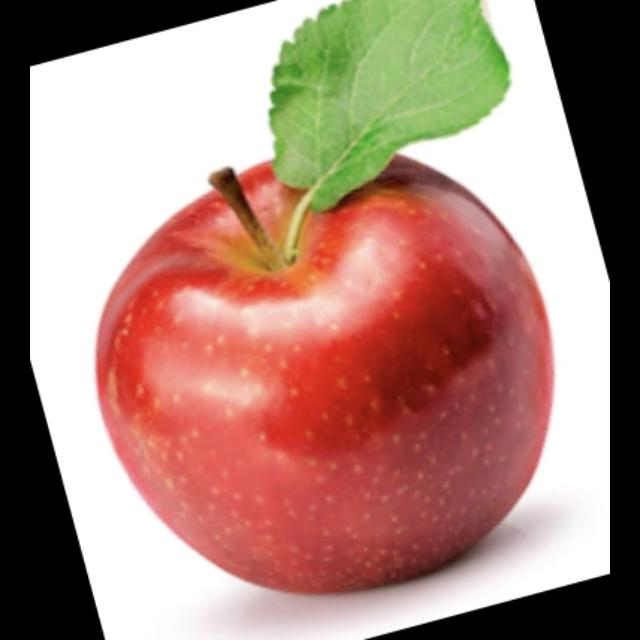Apel Segar: (102, 151, 550, 594)
